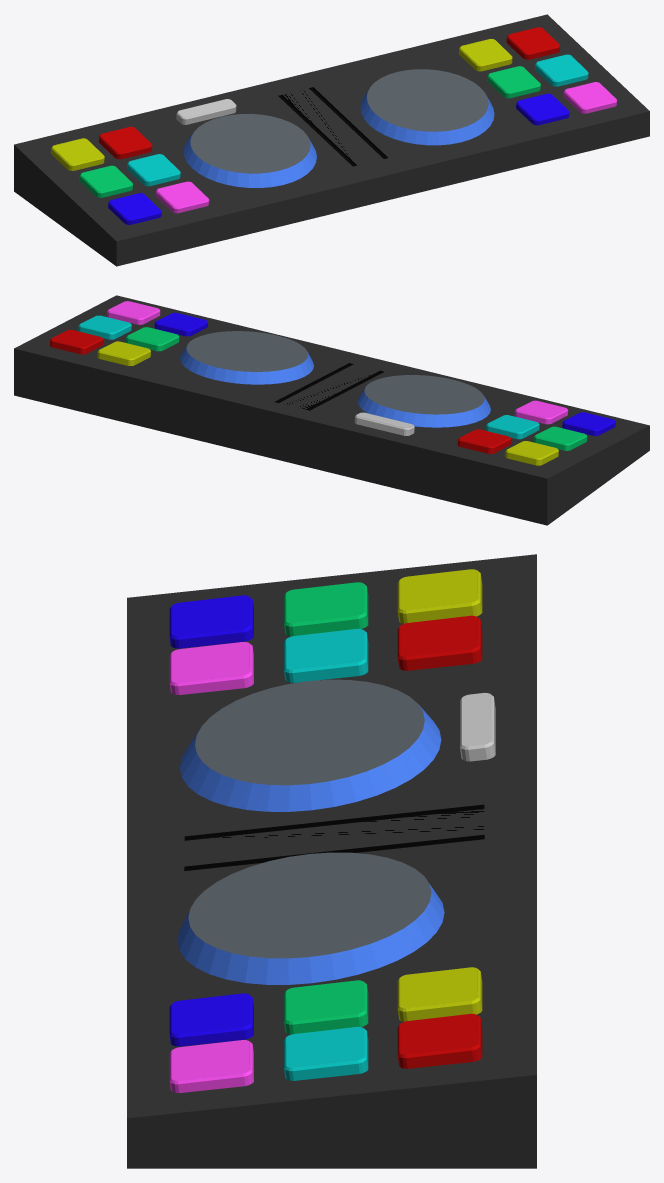
Rendered from platine.gltf.
The picture shows the model from 3 angles, top to bottom: view 1: azimuth 30°, elevation 25°; view 2: azimuth 150°, elevation 25°; view 3: azimuth 270°, elevation 25°; orthographic projection. The views are drawn at different scales.
Visible parts, largest first — view 1: Cube.27, Cylinder.2, Cylinder.3, Cube.15, Cube.16, Cube.26, Cube.25, Cube.23, Cube.18, Cube.24, Cube.17, Cube.20 (+4 smaller); view 2: Cube.27, Cylinder.2, Cylinder.3, Cube.26, Cube.15, Cube.25, Cube.16, Cube.18, Cube.23, Cube.17, Cube.24, Cube.22 (+4 smaller); view 3: Cube.27, Cylinder.2, Cylinder.3, Cube.26, Cube.15, Cube.18, Cube.23, Cube.16, Cube.25, Cube.24, Cube.17, Cube.21 (+4 smaller).
Boxes of the visible parts, x1,y1,x2,y2 form: Cube.27: (14, 14, 649, 266); Cylinder.2: (360, 69, 494, 145); Cylinder.3: (183, 114, 316, 187); Cube.15: (506, 27, 559, 59); Cube.16: (459, 39, 512, 71); Cube.26: (98, 126, 152, 159); Cube.25: (51, 138, 104, 170); Cube.23: (127, 154, 180, 186); Cube.18: (535, 54, 588, 86); Cube.24: (79, 165, 132, 197); Cube.17: (487, 66, 540, 98); Cube.20: (516, 93, 569, 125); Cube.27: (14, 295, 649, 525); Cylinder.2: (180, 331, 313, 384); Cylinder.3: (357, 375, 490, 427); Cube.26: (457, 429, 511, 453); Cube.15: (49, 330, 103, 354); Cube.25: (505, 441, 558, 465); Cube.16: (97, 341, 150, 365); Cube.18: (78, 315, 131, 339); Cube.23: (486, 415, 539, 439); Cube.17: (126, 327, 179, 351); Cube.24: (533, 426, 587, 450); Cube.22: (514, 400, 568, 424); Cube.27: (127, 554, 536, 1168); Cylinder.2: (177, 852, 444, 984); Cylinder.3: (180, 679, 441, 811); Cube.26: (397, 615, 482, 670); Cube.15: (397, 1013, 482, 1068); Cube.18: (284, 1026, 368, 1080); Cube.23: (284, 628, 368, 682); Cube.16: (397, 967, 482, 1021); Cube.25: (397, 569, 482, 623); Cube.24: (284, 582, 368, 636); Cube.17: (284, 980, 368, 1034); Cube.21: (169, 595, 253, 648).
Bounding box in the file's own units: 601 × 55.76 × 200.
16 materials, 16 textured.
